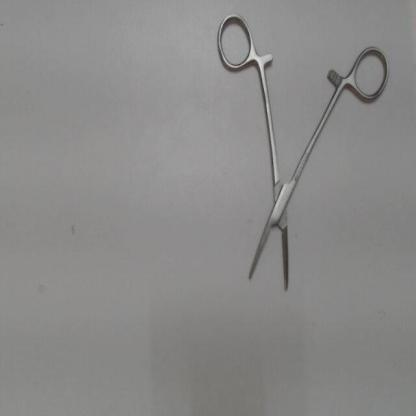Mayo Needle Holder: (212, 7, 393, 295)
